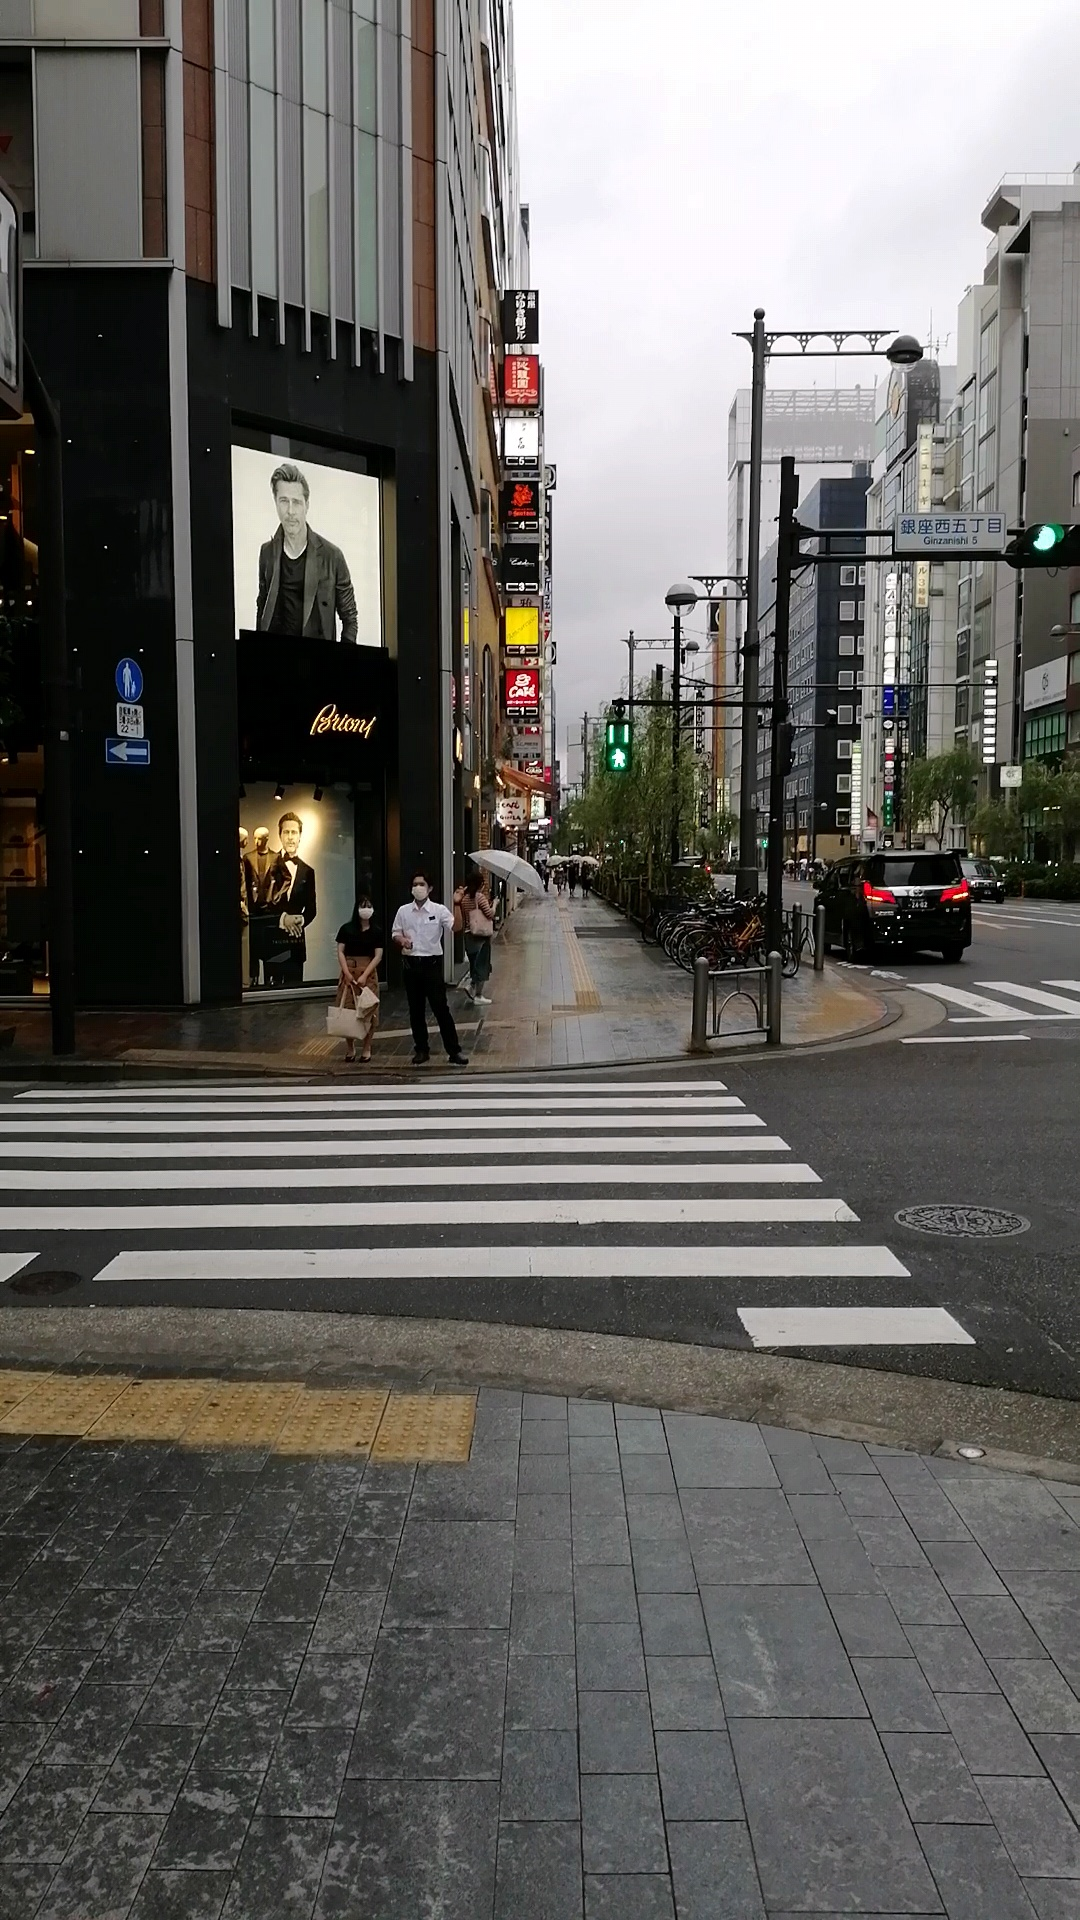green: (604, 719, 632, 773)
